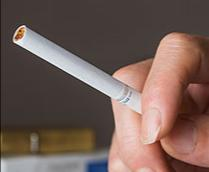Cigarette: (11, 25, 142, 114)
